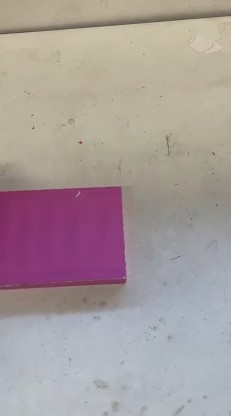pink: (0, 188, 128, 285)
